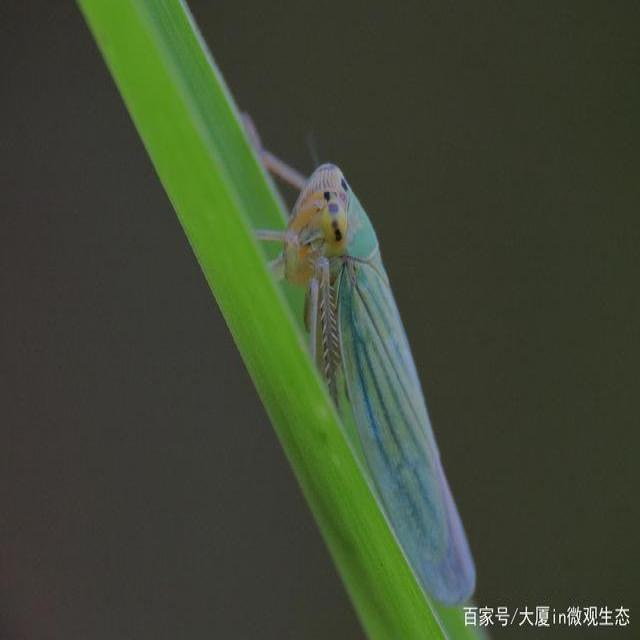Yechan: (266, 138, 483, 610)
